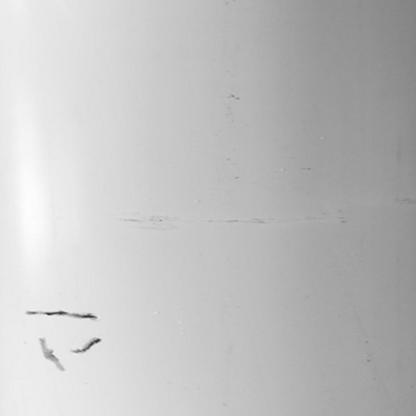fengxi: (25, 310, 99, 323), (39, 341, 66, 370), (73, 339, 103, 353)
